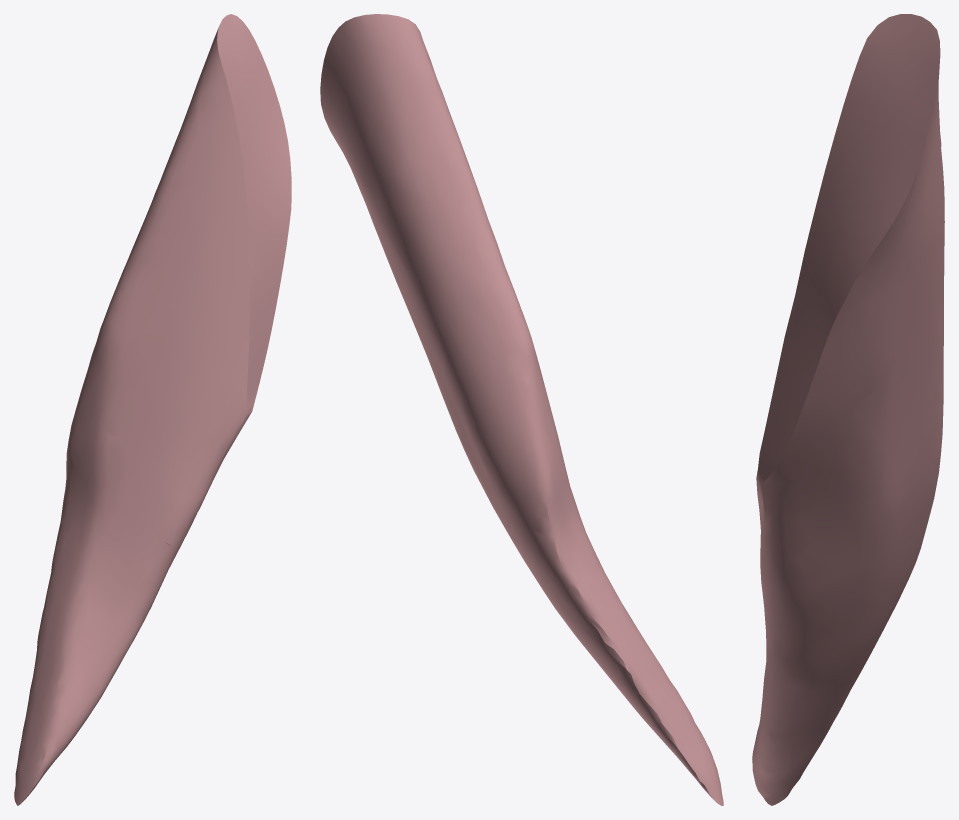
File: fma297808_mm1861.glb
3 views of the same model, side by side, from view 1: azimuth 30°, elevation 25°; view 2: azimuth 150°, elevation 25°; view 3: azimuth 270°, elevation 25° (orthographic). The views are drawn at different scales.
Parts seen in each view (by area): view 1: FMA297808_MM1861; view 2: FMA297808_MM1861; view 3: FMA297808_MM1861.
Boxes of the visible parts, bbox=[...] form: FMA297808_MM1861: bbox=[14, 14, 291, 805]; FMA297808_MM1861: bbox=[320, 14, 723, 805]; FMA297808_MM1861: bbox=[752, 14, 944, 805].
Bounding box in the file's own units: 0.031 × 0.0649 × 0.0117.
